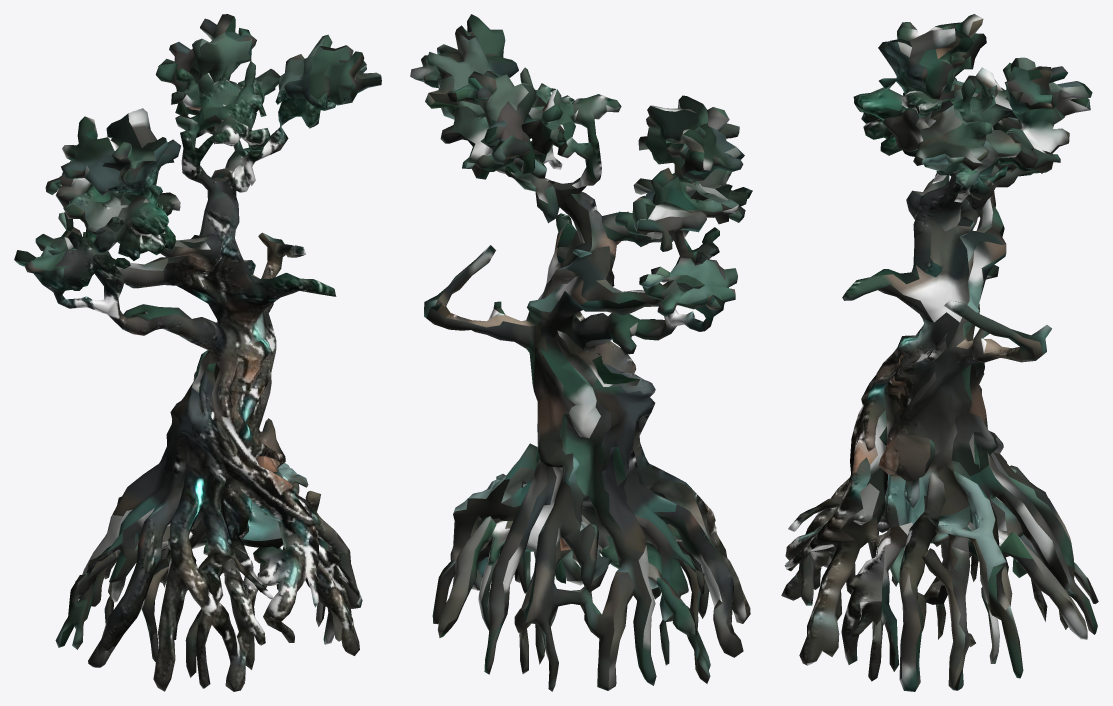
The model's file is tree_mangrove.glb.
3 views of the same model, side by side, from view 1: azimuth 30°, elevation 25°; view 2: azimuth 150°, elevation 25°; view 3: azimuth 270°, elevation 25° (orthographic). The views are drawn at different scales.
Visible parts, largest first — view 1: geometry_0; view 2: geometry_0; view 3: geometry_0.
Boxes of the visible parts, left/top/right/bottom form: geometry_0: left=14, top=14, right=381, bottom=691; geometry_0: left=410, top=14, right=752, bottom=691; geometry_0: left=781, top=14, right=1098, bottom=691.
Bounding box in the file's own units: 1.13 × 1.88 × 0.9081.
Materials: 1 (1 with a texture image).
